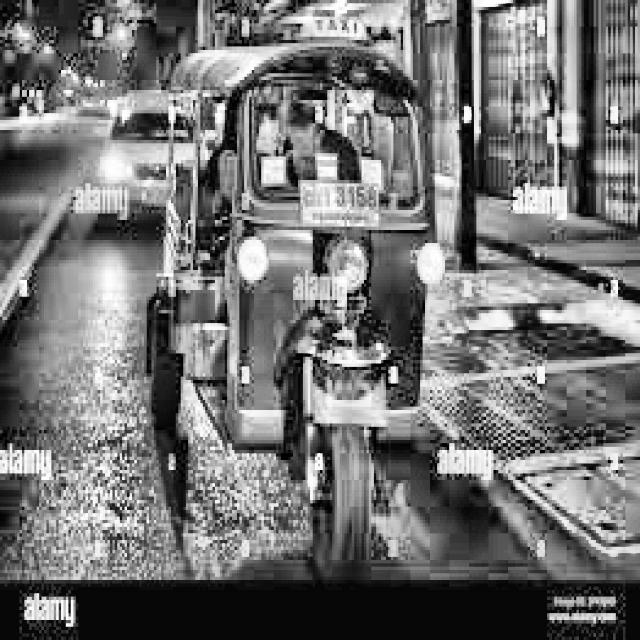license-plate: (299, 181, 379, 226)
